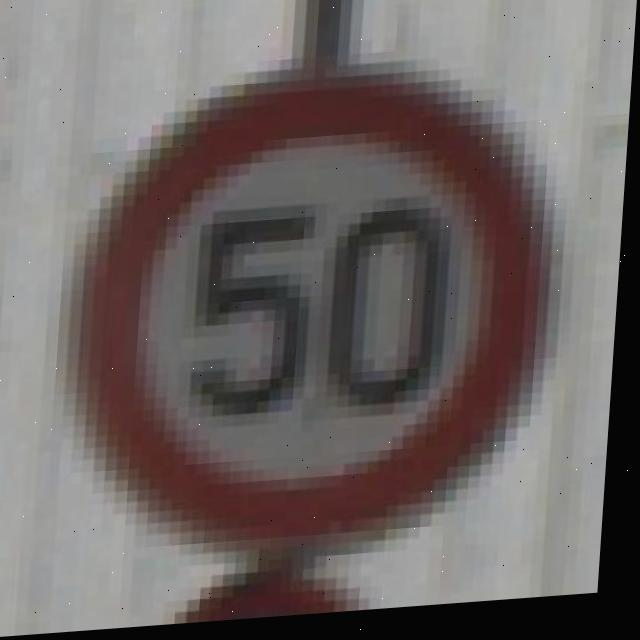Speed limit 50: (62, 55, 575, 563)
